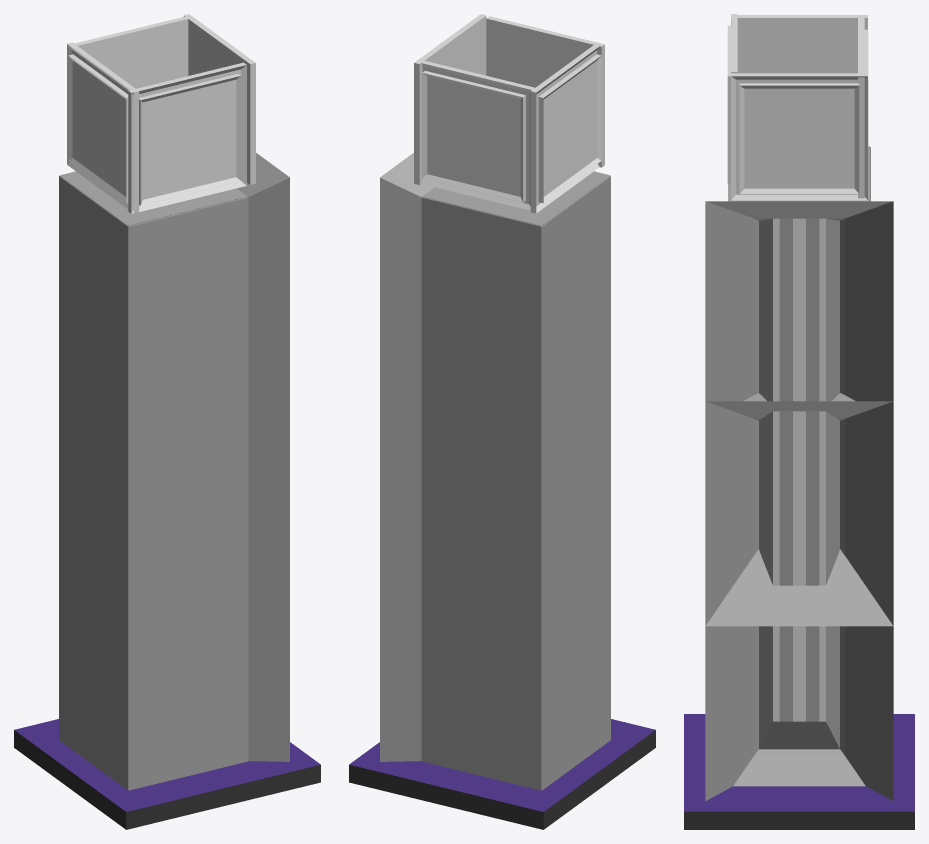
Rendered from building_3.fbx.
The picture shows the model from 3 angles, left to right: view 1: azimuth 30°, elevation 25°; view 2: azimuth 150°, elevation 25°; view 3: azimuth 270°, elevation 25°; orthographic projection. The views are drawn at different scales.
Visible parts, largest first — view 1: Cube.090, Cube.091, Base, Billboard 1.009|Billboard 1|Dupli|, Billboard 1.011|Billboard 1|Dupli|, Billboard 1.010|Billboard 1.004|Dupli|1, Billboard 1.009|Billboard 1.004|Dupli|1, Billboard 1.008|Billboard 1.004|Dupli|1, Billboard 1.011|Billboard 1.004|Dupli|1; view 2: Cube.091, Cube.090, Base, Billboard 1.010|Billboard 1|Dupli|, Billboard 1.011|Billboard 1|Dupli|, Billboard 1.009|Billboard 1.004|Dupli|1, Billboard 1.008|Billboard 1.004|Dupli|1, Billboard 1.010|Billboard 1.004|Dupli|1, Billboard 1.011|Billboard 1.004|Dupli|1; view 3: Cube.091, Cube.090, Billboard 1.008|Billboard 1|Dupli|, Base, Billboard 1.011|Billboard 1.004|Dupli|1, Billboard 1.008|Billboard 1.004|Dupli|1, Billboard 1.010|Billboard 1.004|Dupli|1, Billboard 1.009|Billboard 1|Dupli|.
Part boxes in pixels (x1,y1,x2,y2): Cube.090: [59, 372, 289, 790]; Cube.091: [59, 153, 289, 599]; Base: [14, 719, 320, 829]; Billboard 1.009|Billboard 1|Dupli|: [139, 73, 241, 205]; Billboard 1.011|Billboard 1|Dupli|: [68, 54, 128, 203]; Billboard 1.010|Billboard 1.004|Dupli|1: [74, 16, 191, 88]; Billboard 1.009|Billboard 1.004|Dupli|1: [128, 62, 246, 213]; Billboard 1.008|Billboard 1.004|Dupli|1: [183, 14, 255, 184]; Billboard 1.011|Billboard 1.004|Dupli|1: [67, 42, 139, 213]; Cube.091: [380, 153, 610, 599]; Cube.090: [380, 371, 610, 790]; Base: [349, 719, 655, 829]; Billboard 1.010|Billboard 1|Dupli|: [422, 70, 525, 202]; Billboard 1.011|Billboard 1|Dupli|: [538, 54, 601, 203]; Billboard 1.009|Billboard 1.004|Dupli|1: [486, 16, 604, 167]; Billboard 1.008|Billboard 1.004|Dupli|1: [414, 14, 486, 184]; Billboard 1.010|Billboard 1.004|Dupli|1: [417, 60, 534, 210]; Billboard 1.011|Billboard 1.004|Dupli|1: [530, 42, 602, 213]; Cube.091: [705, 146, 893, 626]; Cube.090: [705, 393, 893, 801]; Billboard 1.008|Billboard 1|Dupli|: [739, 83, 859, 193]; Base: [684, 714, 914, 829]; Billboard 1.011|Billboard 1.004|Dupli|1: [731, 15, 867, 73]; Billboard 1.008|Billboard 1.004|Dupli|1: [731, 73, 867, 200]; Billboard 1.010|Billboard 1.004|Dupli|1: [858, 18, 864, 198]; Billboard 1.009|Billboard 1|Dupli|: [727, 25, 731, 184].
Bounding box in the file's own units: 800 × 2828 × 800.
